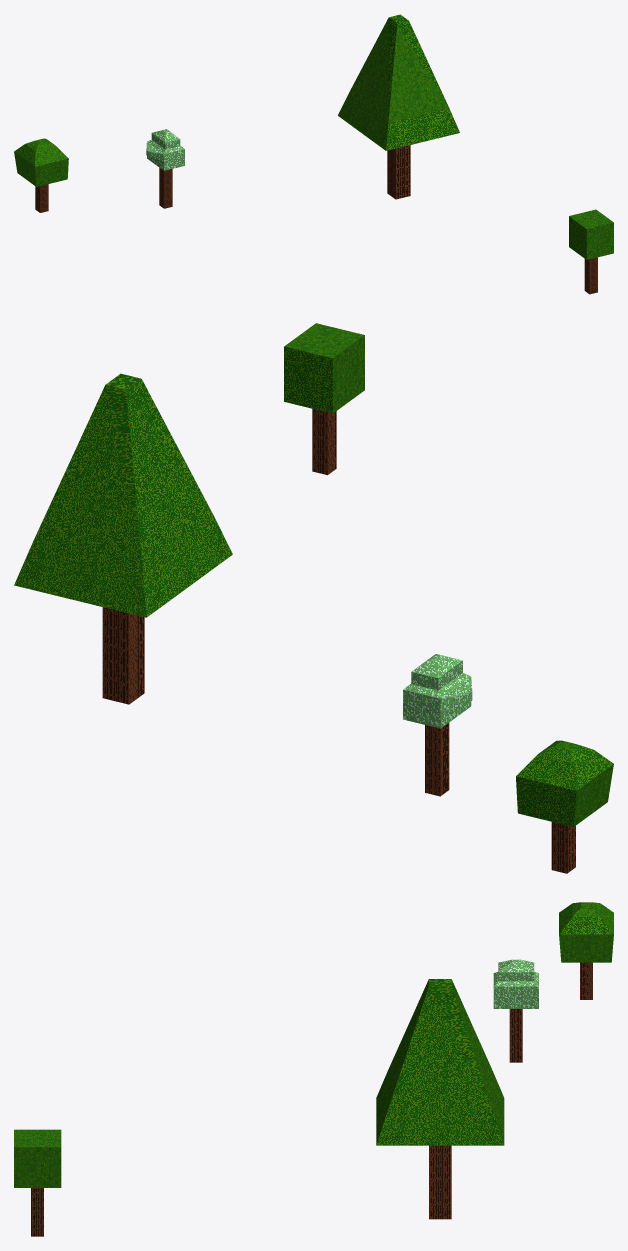
File: BLOCKTGON_TREE.fbx
3 renders of one model, top to bottom at view 1: azimuth 30°, elevation 25°; view 2: azimuth 150°, elevation 25°; view 3: azimuth 270°, elevation 25°, orthographic. The views are drawn at different scales.
Visible parts, largest first — view 1: BLOCKYGON_TREE_1, BLOCKYGON_TREE, BLOCKYGON_TREE_2, BLOCKYGON_TREE_3; view 2: BLOCKYGON_TREE_1, BLOCKYGON_TREE, BLOCKYGON_TREE_2, BLOCKYGON_TREE_3; view 3: BLOCKYGON_TREE_1, BLOCKYGON_TREE_2, BLOCKYGON_TREE, BLOCKYGON_TREE_3.
Part boxes in pixels (left/top/right/bottom): BLOCKYGON_TREE_1: left=338, top=14, right=459, bottom=199; BLOCKYGON_TREE: left=569, top=209, right=613, bottom=294; BLOCKYGON_TREE_2: left=14, top=138, right=68, bottom=212; BLOCKYGON_TREE_3: left=146, top=129, right=184, bottom=208; BLOCKYGON_TREE_1: left=14, top=373, right=232, bottom=704; BLOCKYGON_TREE: left=284, top=323, right=364, bottom=475; BLOCKYGON_TREE_2: left=516, top=740, right=613, bottom=873; BLOCKYGON_TREE_3: left=403, top=654, right=472, bottom=796; BLOCKYGON_TREE_1: left=376, top=979, right=504, bottom=1219; BLOCKYGON_TREE_2: left=559, top=902, right=613, bottom=999; BLOCKYGON_TREE: left=14, top=1129, right=61, bottom=1236; BLOCKYGON_TREE_3: left=493, top=959, right=538, bottom=1062.
Size of the model in its own units: 2318 by 1043 by 2446.
